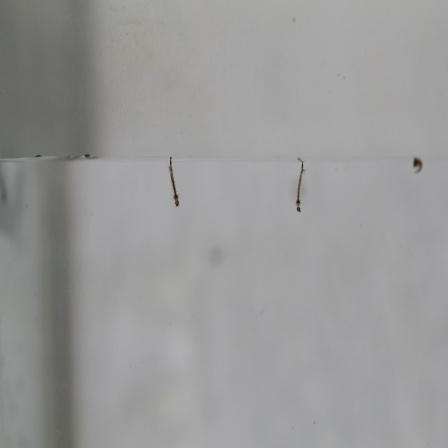Jentik-Nyamuk: (292, 156, 307, 216), (166, 157, 182, 209), (406, 152, 425, 177)
